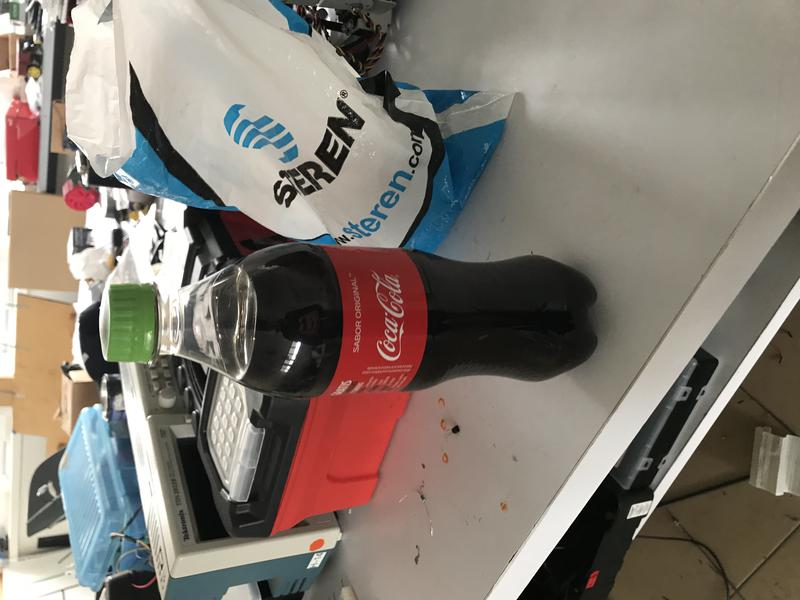coca_cola: (96, 244, 597, 401)
